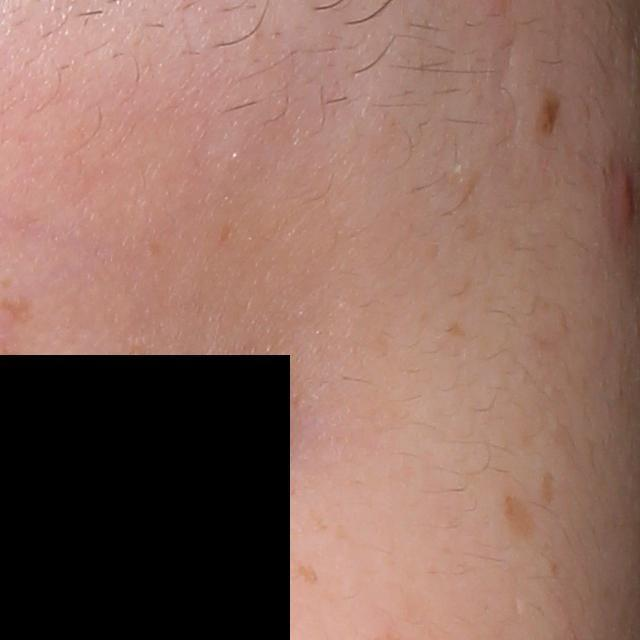nevus: (538, 91, 567, 139)
papule: (615, 175, 635, 230)
